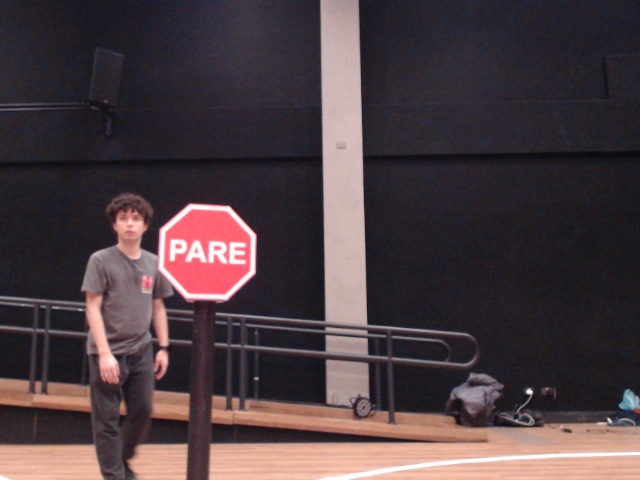SEMAFORO: (147, 193, 285, 320)
